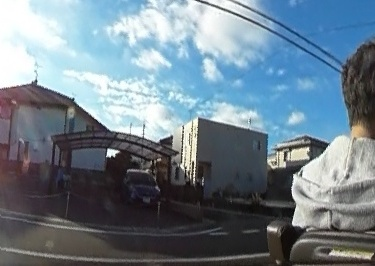person: (280, 32, 375, 263)
